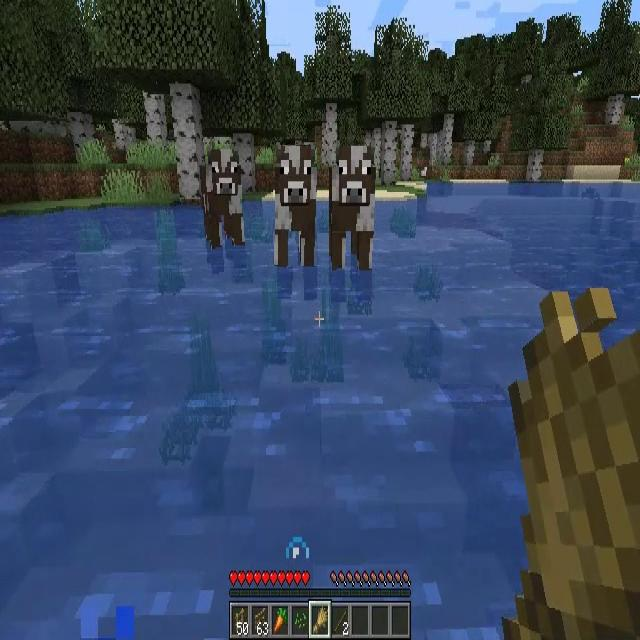cow: (330, 145, 374, 268), (274, 145, 318, 266), (201, 150, 245, 244)
